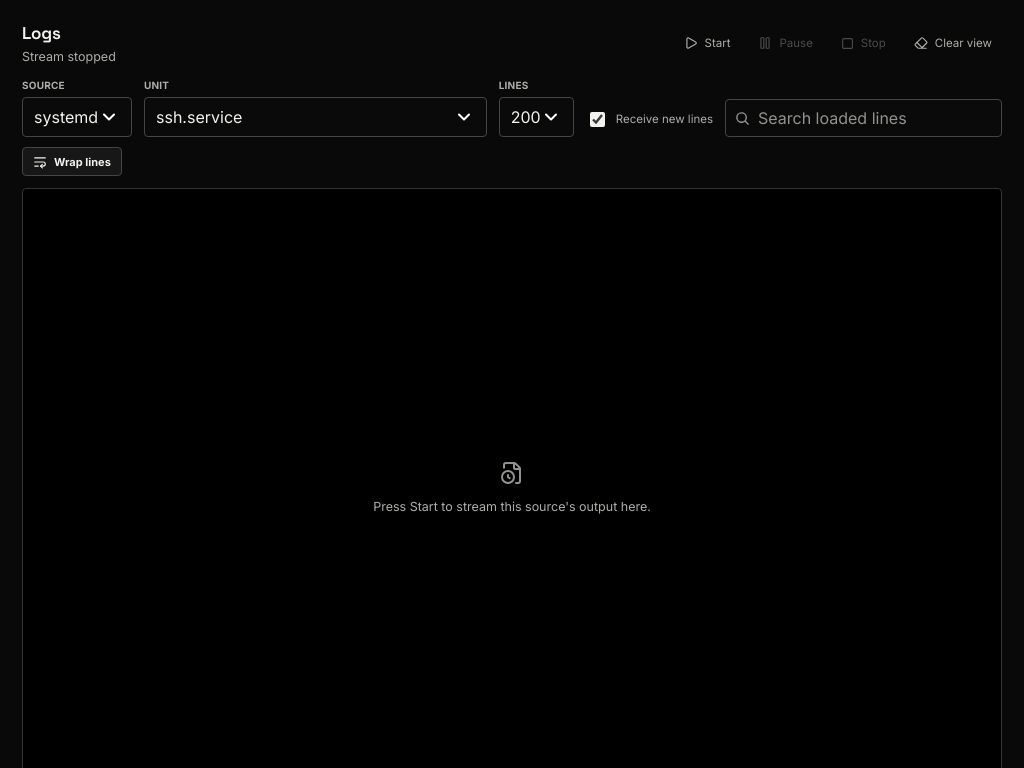
Scenario: LogsPane reading position › stops the native stream and unregisters the listener on unmount
The width and height of the screenshot is (1024, 768).
Click the button "Start": (707, 43) x1=674 y1=28 x2=740 y2=58
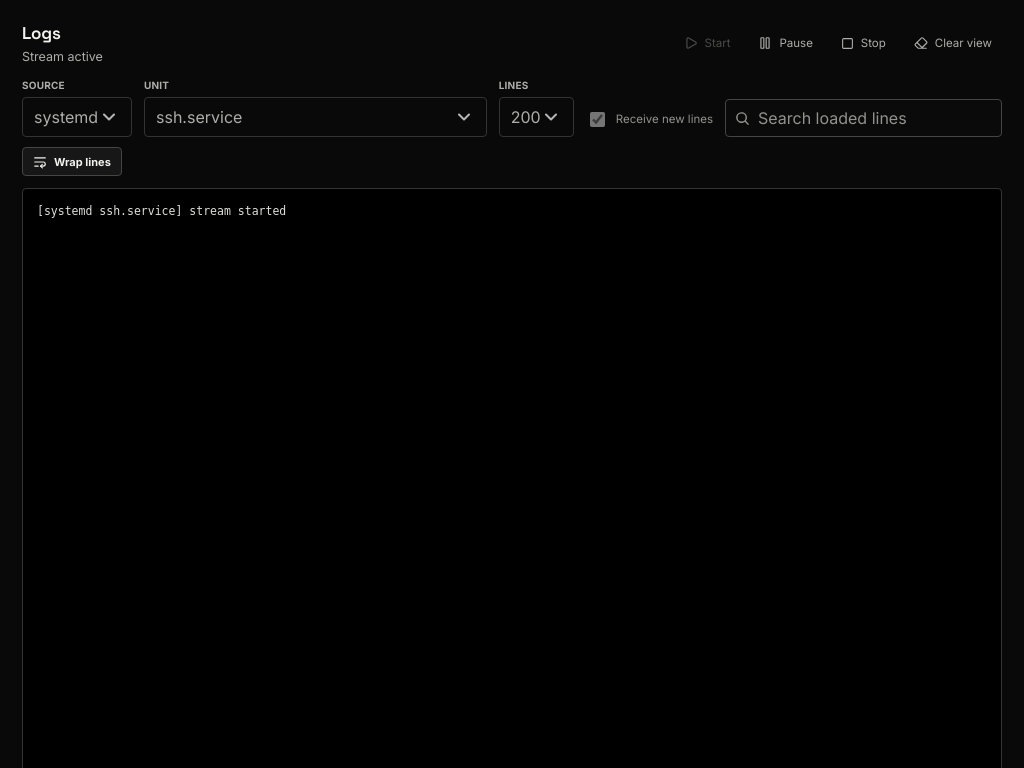
Now the text "Stream active" is shown, box x1=22 y1=49 x2=103 y2=64
